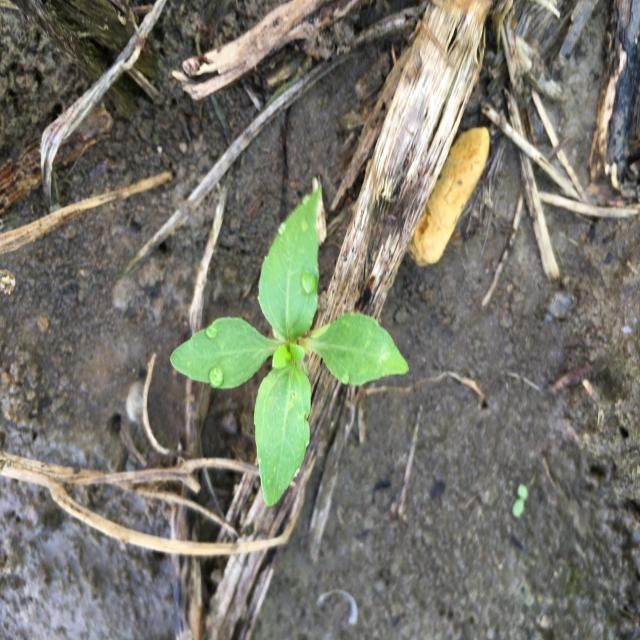Eclipta: (167, 174, 412, 511)
